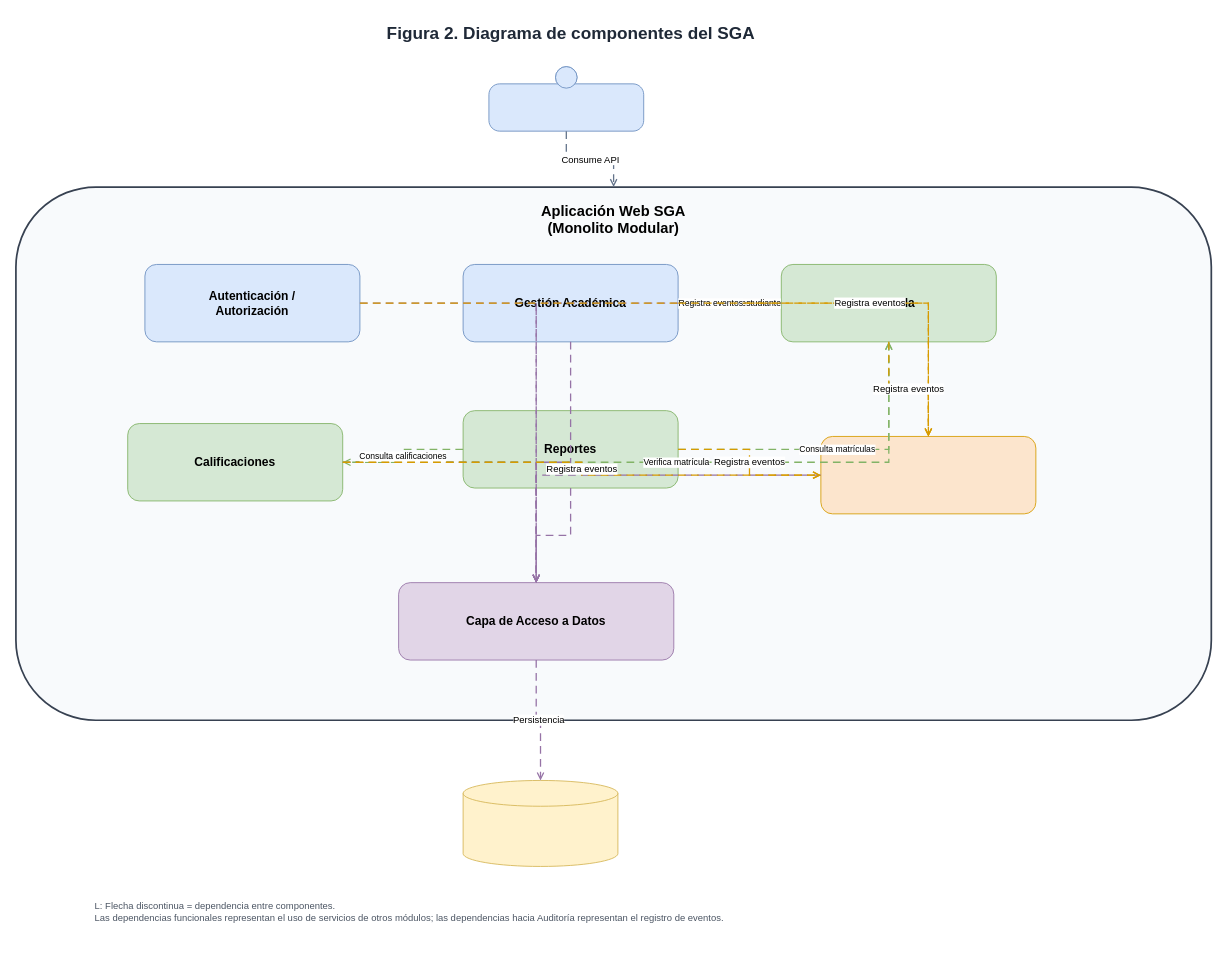
Some shapes in this 1226 by 954 pixel diagram are drawn without their labels. Here are the shapes that lost their labels. From the top down, the box of each, then its label:
(488, 66, 644, 131): Cliente Web UI
(820, 436, 1036, 514): Auditoría
(462, 780, 618, 866): Base de Datos
